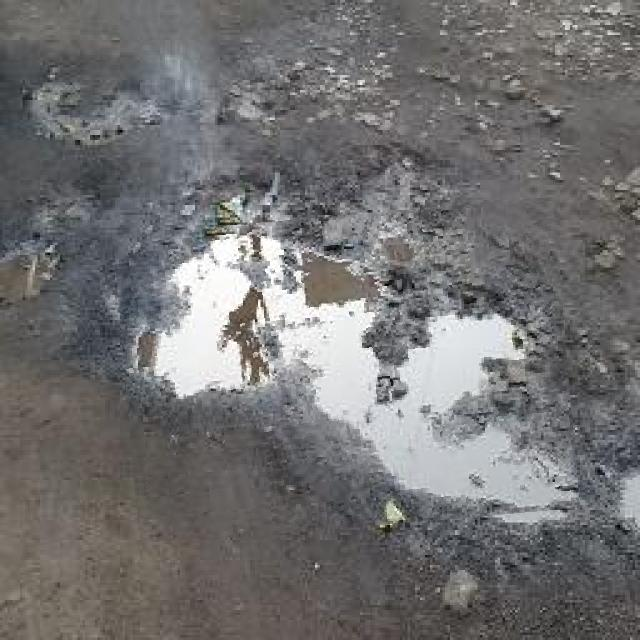puddle: (121, 208, 575, 539)
